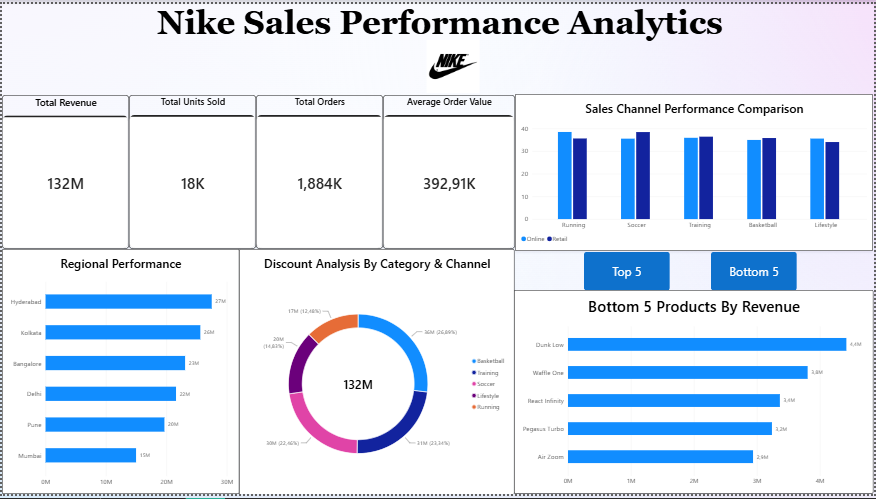

The dashboard page shown, as its layout file describes it:
{"tool":"powerbi","page":{"name":"Σελίδα 1","canvas":[1920,1080],"ordinal":0},"visuals":[{"type":"cardVisual","title":"Total Revenue","fields":{"Data":["Sum(Nike_Sales_Cleaned.Revenue)"]},"box":[0,200.6,279.9,339.4],"z":0},{"type":"cardVisual","title":"Total Units Sold","fields":{"Data":["Sum(Nike_Sales_Cleaned.Units_Sold)"]},"box":[279.9,200.6,279.9,339.4],"z":1000},{"type":"cardVisual","title":"Total Orders","fields":{"Data":["CountNonNull(Nike_Sales_Cleaned.Order_ID)"]},"box":[559.8,200.6,279.9,339.4],"z":2000},{"type":"cardVisual","title":"Average Order Value","fields":{"Data":["Avg(Nike_Sales_Cleaned.Revenue)"]},"box":[839.8,200.6,290.9,339.4],"z":3000},{"type":"clusteredBarChart","title":"Regional Performance","fields":{"Category":["Nike_Sales_Cleaned.Region"],"Y":["Sum(Nike_Sales_Cleaned.Revenue)"]},"box":[0,540,522.7,540],"z":4000},{"type":"donutChart","title":"Discount Analysis By Category & Channel","fields":{"Category":["Nike_Sales_Cleaned.Product_Line"],"Y":["Sum(Nike_Sales_Cleaned.Revenue)"]},"box":[522.7,540,607.2,542.2],"z":5000},{"type":"clusteredColumnChart","title":"Sales Channel Performance Comparison","fields":{"Category":["Nike_Sales_Cleaned.Product_Line"],"Series":["Nike_Sales_Cleaned.Sales_Channel"],"Y":["Avg(Nike_Sales_Cleaned.Discount_Applied)"]},"box":[1130.7,198.4,789.1,346],"z":6000},{"type":"clusteredBarChart","title":"Top 5 Products By Revenue","fields":{"Category":["Nike_Sales_Cleaned.Product_Name"],"Y":["Sum(Nike_Sales_Cleaned.Revenue)"]},"box":[1127.7,631.1,791.6,448.9],"z":7000},{"type":"actionButton","box":[1281.7,546.5,189.3,84.5],"z":9000},{"type":"actionButton","box":[1563.6,546.5,189.3,84.5],"z":10000},{"type":"textbox","box":[10.8,0,1908.4,199.5],"z":10001},{"type":"image","box":[687.5,80.2,613.7,117.1],"z":10002}]}

Visuals, with their boxes in screenshot pixels (x1, y1, x2, y2), scaled from the page's 1920x1080 canvas onto the 876x499 screenshot:
"Total Revenue" cardVisual: (left=0, top=93, right=128, bottom=250)
"Total Units Sold" cardVisual: (left=128, top=93, right=255, bottom=250)
"Total Orders" cardVisual: (left=255, top=93, right=383, bottom=250)
"Average Order Value" cardVisual: (left=383, top=93, right=516, bottom=250)
"Regional Performance" clusteredBarChart: (left=0, top=250, right=238, bottom=498)
"Discount Analysis By Category & Channel" donutChart: (left=238, top=250, right=516, bottom=498)
"Sales Channel Performance Comparison" clusteredColumnChart: (left=516, top=92, right=875, bottom=252)
"Top 5 Products By Revenue" clusteredBarChart: (left=515, top=292, right=875, bottom=498)
actionButton: (left=585, top=253, right=671, bottom=292)
actionButton: (left=713, top=253, right=800, bottom=292)
textbox: (left=5, top=0, right=875, bottom=92)
image: (left=314, top=37, right=594, bottom=91)
